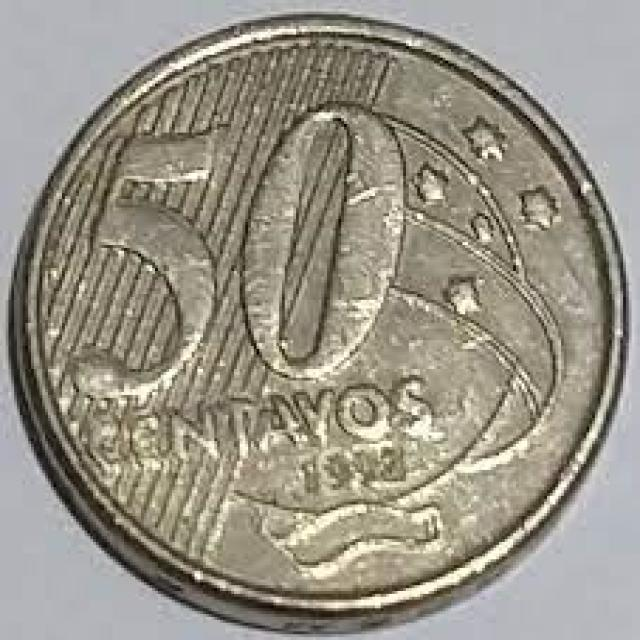50 cent: (12, 20, 634, 638)
